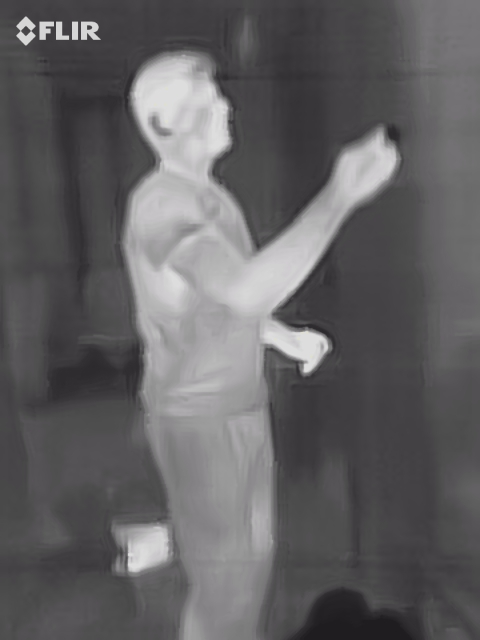head: (127, 46, 234, 160)
